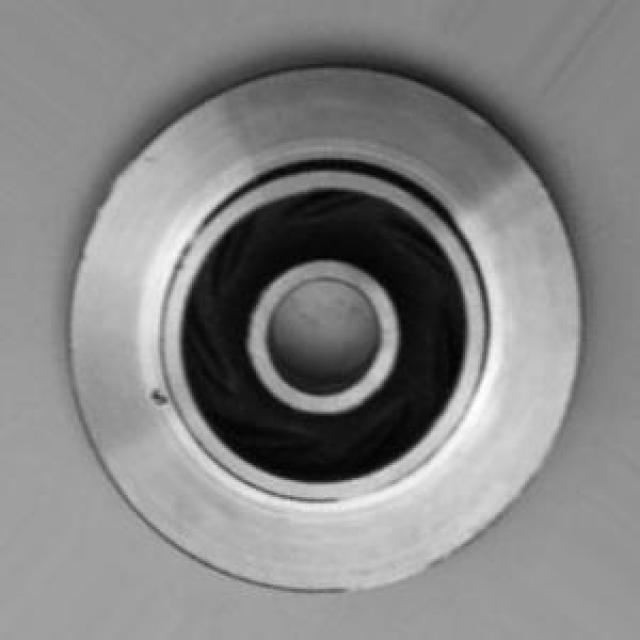Defect: (148, 382, 176, 415)
